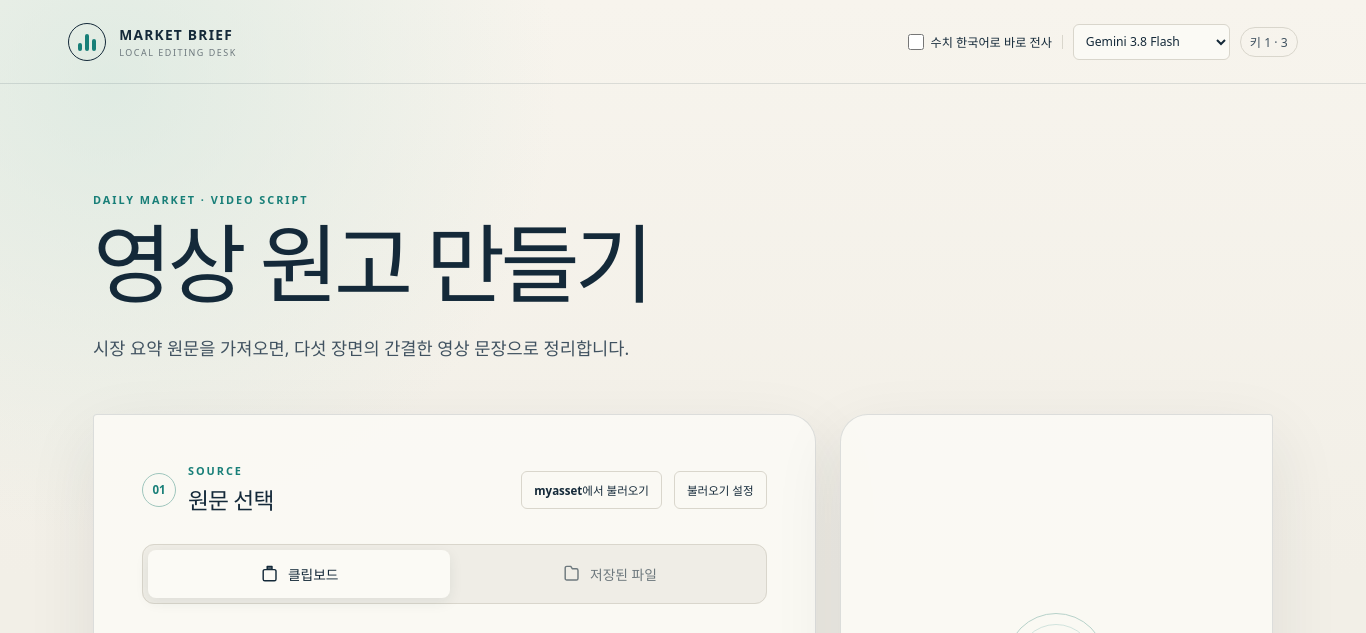
Test case: App › myasset 빈 날짜는 가져오기를 막고 오류를 알린다
The width and height of the screenshot is (1366, 633).
Expected: the heading "영상 원고 만들기" is shown, 93,204 -> 649,321
Click the button "불러오기 설정" at (720, 490), box 674,470 -> 766,508
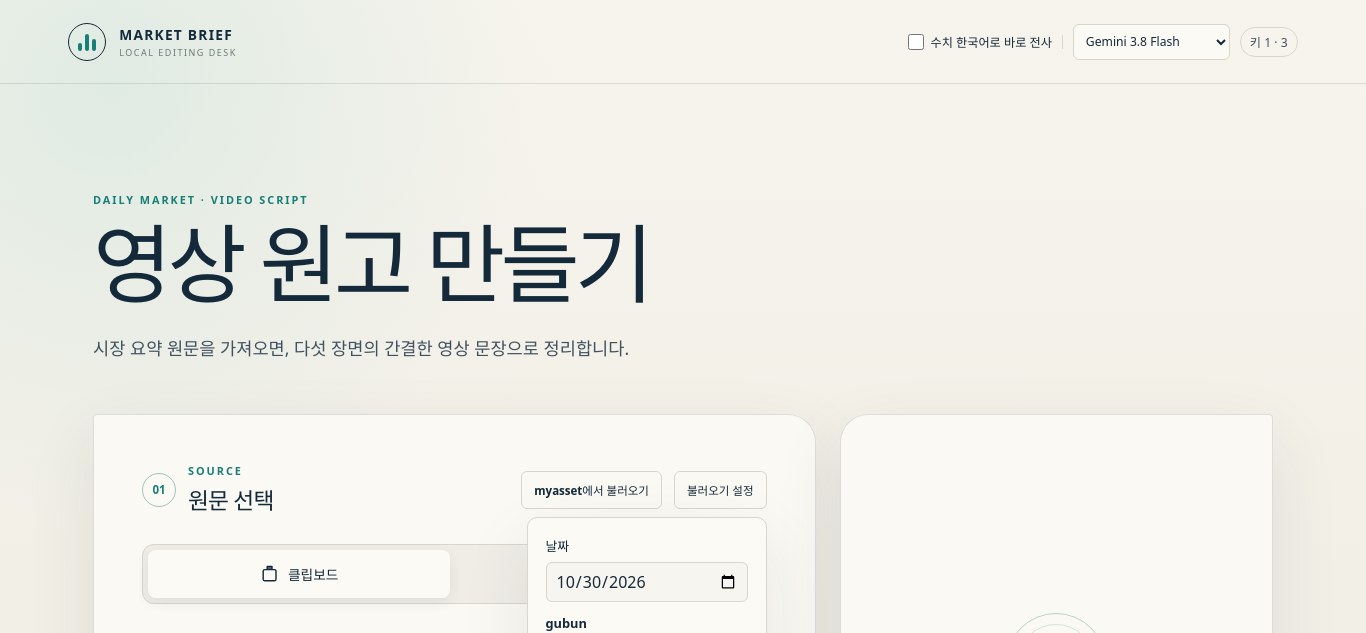
Clear the date field labelled "날짜" at (646, 582), box 546,562 -> 748,602
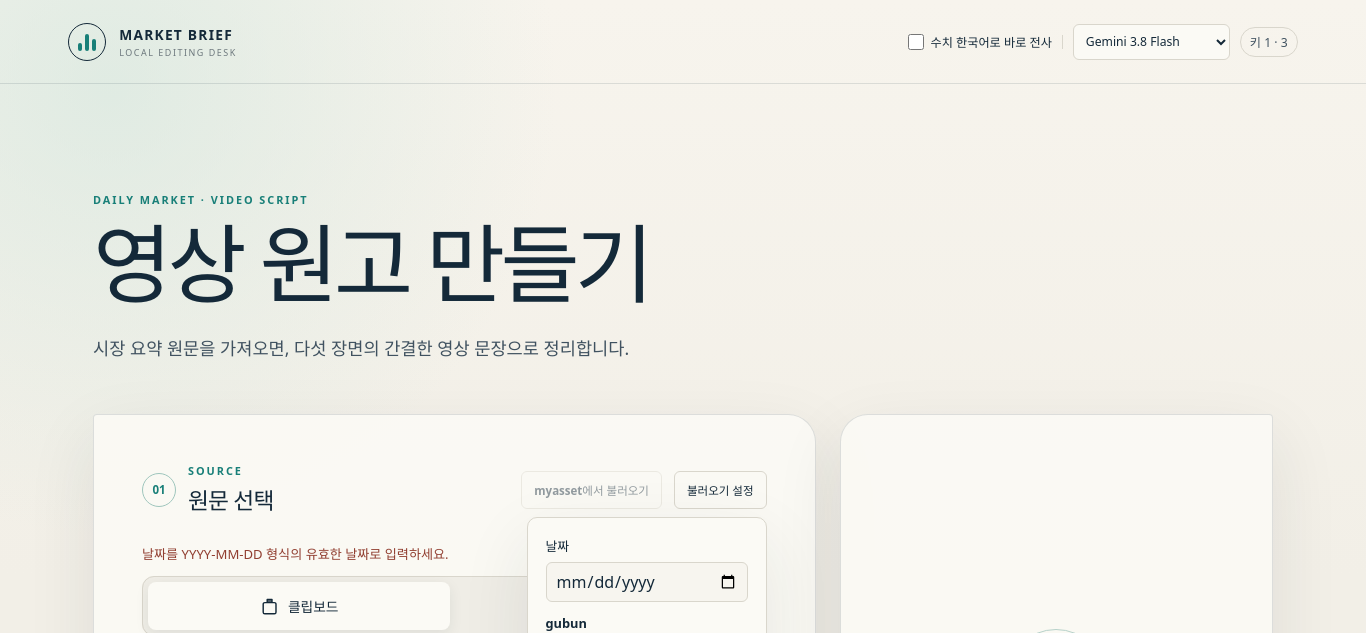
Expected: the button "myasset에서 불러오기" is disabled, 521,470 -> 662,508
Expected: the text "날짜를 YYYY-MM-DD 형식의 유효한 날짜로 입력하세요." is shown, 142,545 -> 449,563
